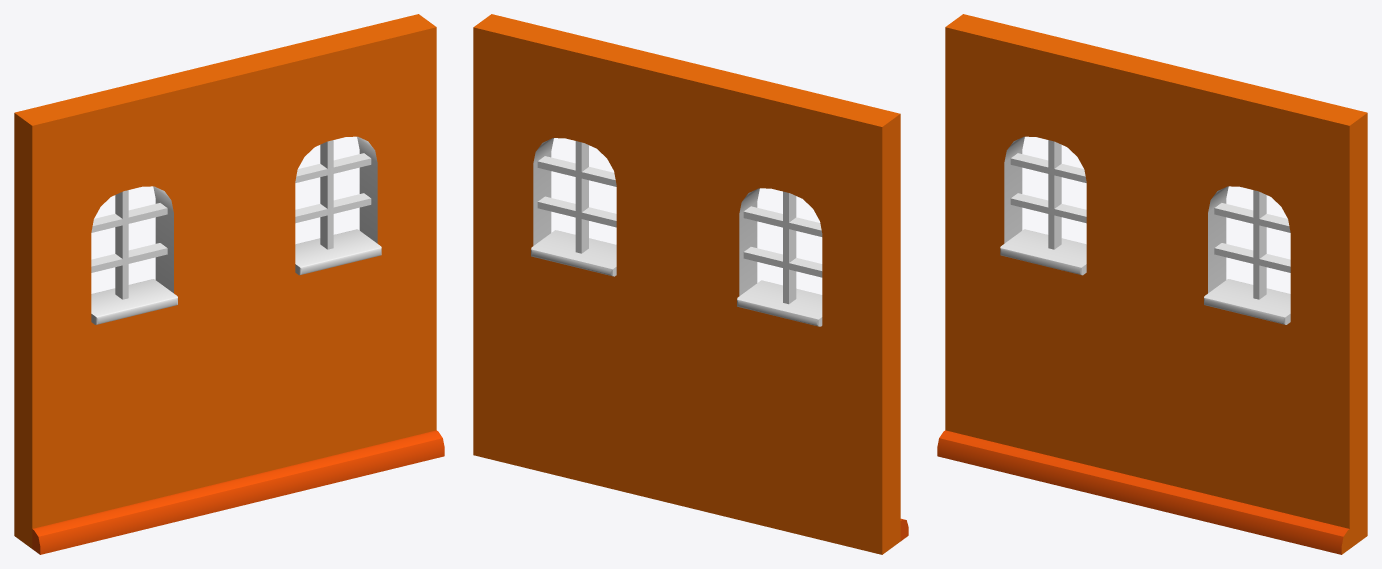
File: O_Wall001.fbx
3 views of the same model, side by side, from view 1: azimuth 30°, elevation 25°; view 2: azimuth 150°, elevation 25°; view 3: azimuth 330°, elevation 25° (orthographic).
Parts seen in each view (by area): view 1: Wall001.001; view 2: Wall001.001; view 3: Wall001.001.
Boxes of the visible parts, x1,y1,x2,y2 form: Wall001.001: (14, 14, 444, 554); Wall001.001: (473, 14, 908, 554); Wall001.001: (937, 14, 1367, 554).
Bounding box in the file's own units: 250 × 250 × 31.39.
1 material, 1 textured.
